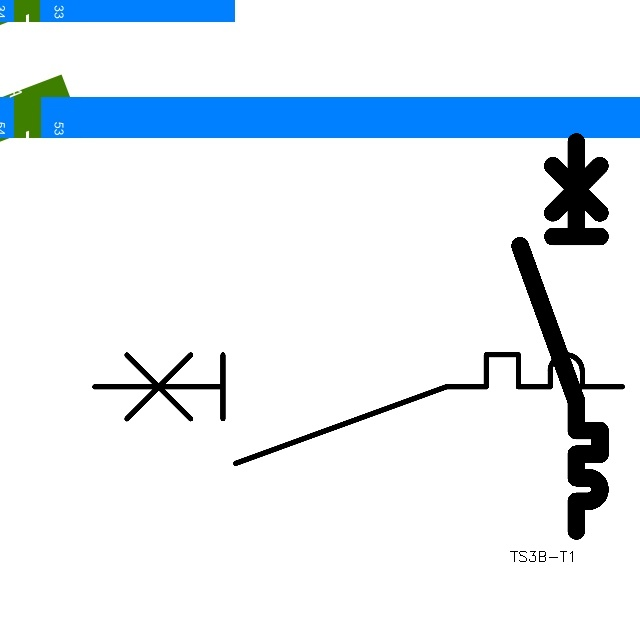interruptor_termomagnetico: (81, 341, 636, 477), (510, 132, 610, 541)
